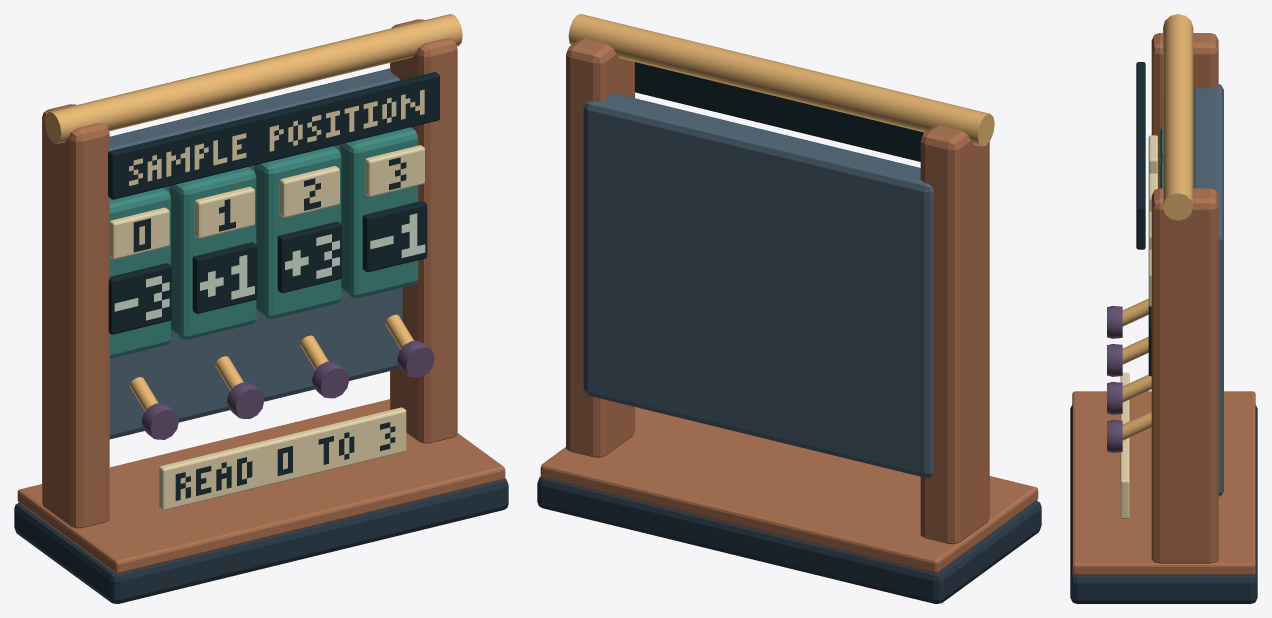
3 views of the same model, side by side, from view 1: azimuth 30°, elevation 25°; view 2: azimuth 150°, elevation 25°; view 3: azimuth 270°, elevation 25° (orthographic). The views are drawn at different scales.
Visible parts, largest first — view 1: PR096 enamel and hardware; view 2: PR096 enamel and hardware; view 3: PR096 enamel and hardware.
Boxes of the visible parts, left/top/right/bottom form: PR096 enamel and hardware: left=14, top=14, right=508, bottom=603; PR096 enamel and hardware: left=537, top=14, right=1041, bottom=603; PR096 enamel and hardware: left=1070, top=14, right=1257, bottom=603.
Bounding box in the file's own units: 1 × 1.08 × 0.4417.
